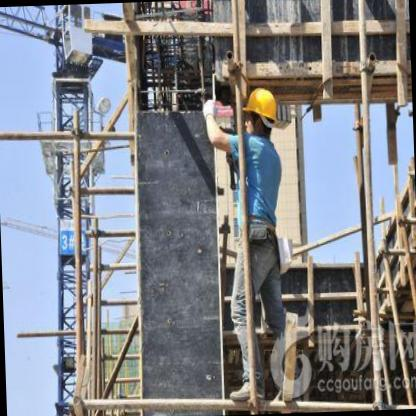helmet: (244, 84, 280, 140)
